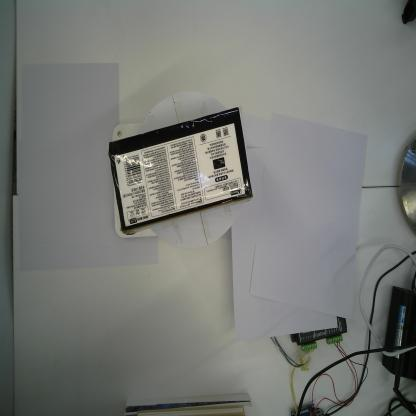Tissue: (108, 105, 254, 237)
